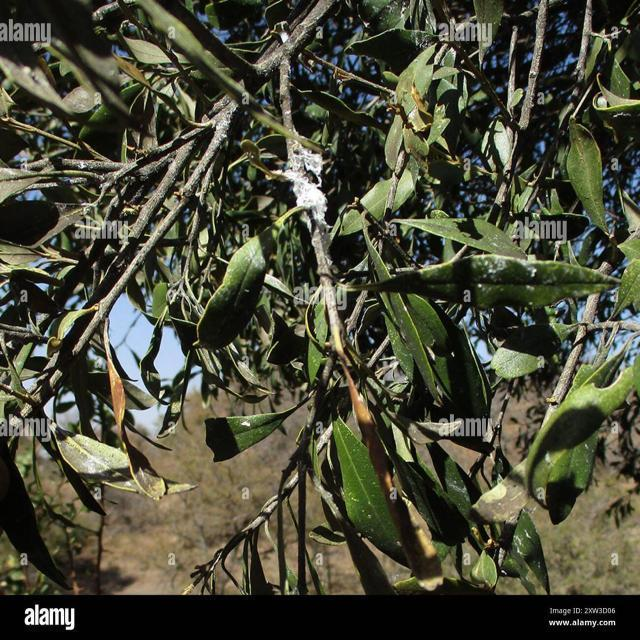Psyllid: (394, 255, 619, 307), (264, 138, 332, 266), (56, 426, 138, 491), (232, 416, 262, 445)
